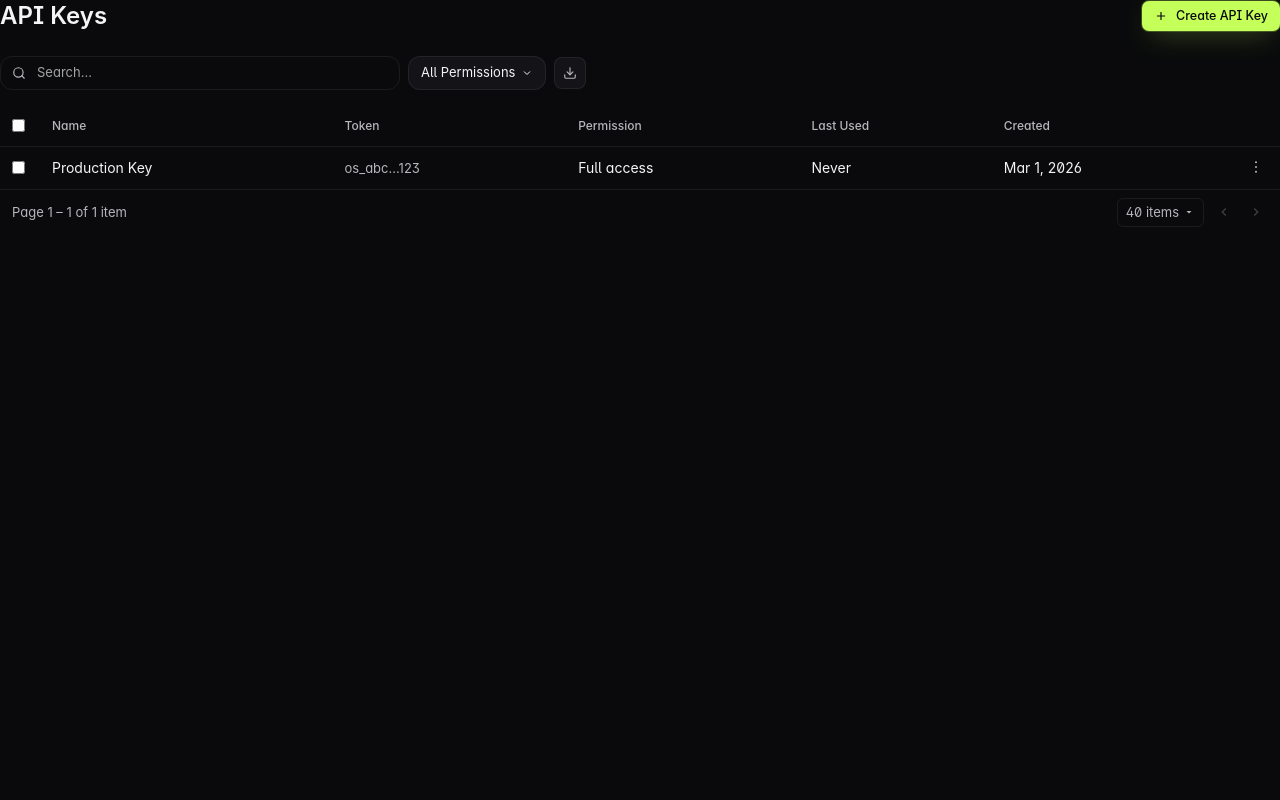
Test: Create API Key Modal — feature-031 › domain field is enabled when Sending access is selected
This screenshot has width=1280, height=800.
Click the button "Create API Key" at (1211, 16), box left=1142, top=1, right=1279, bottom=31
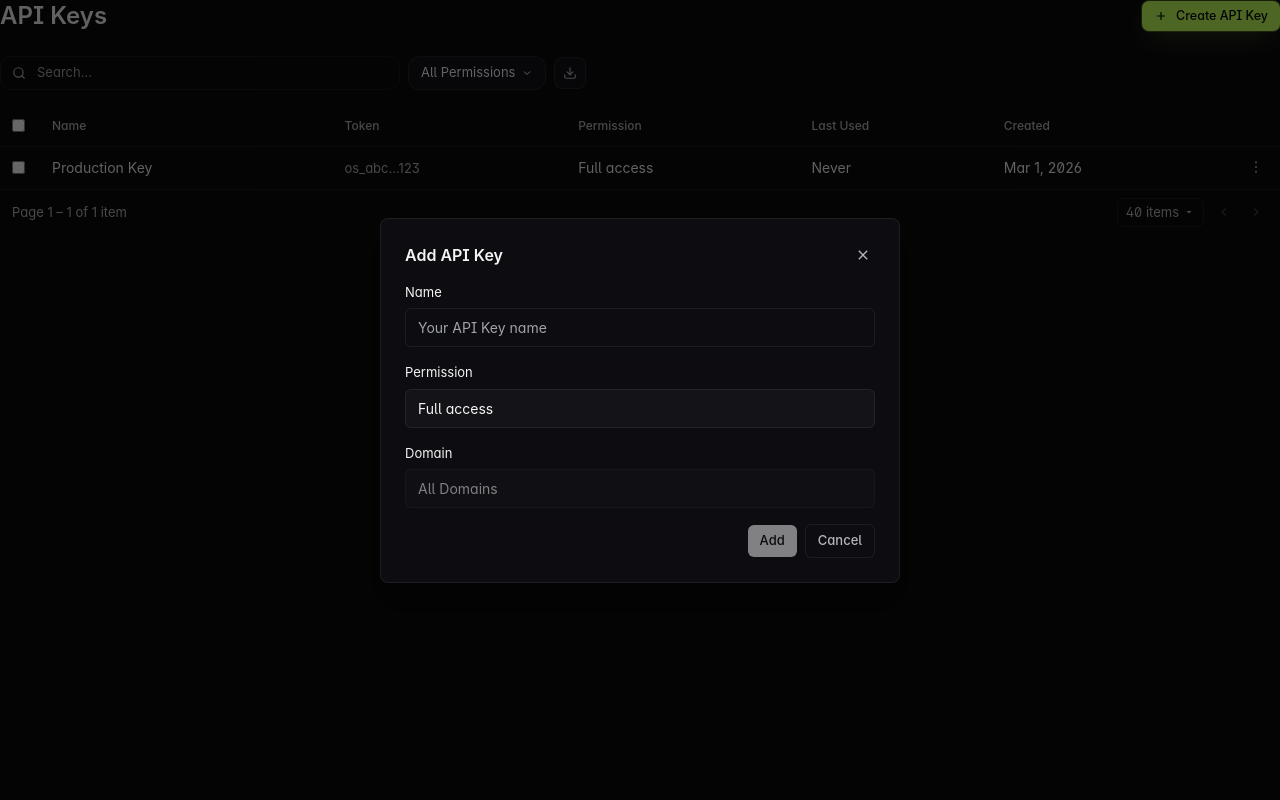
Select "Sending access" in the dropdown labelled "Permission" at (640, 408), box left=405, top=388, right=875, bottom=428
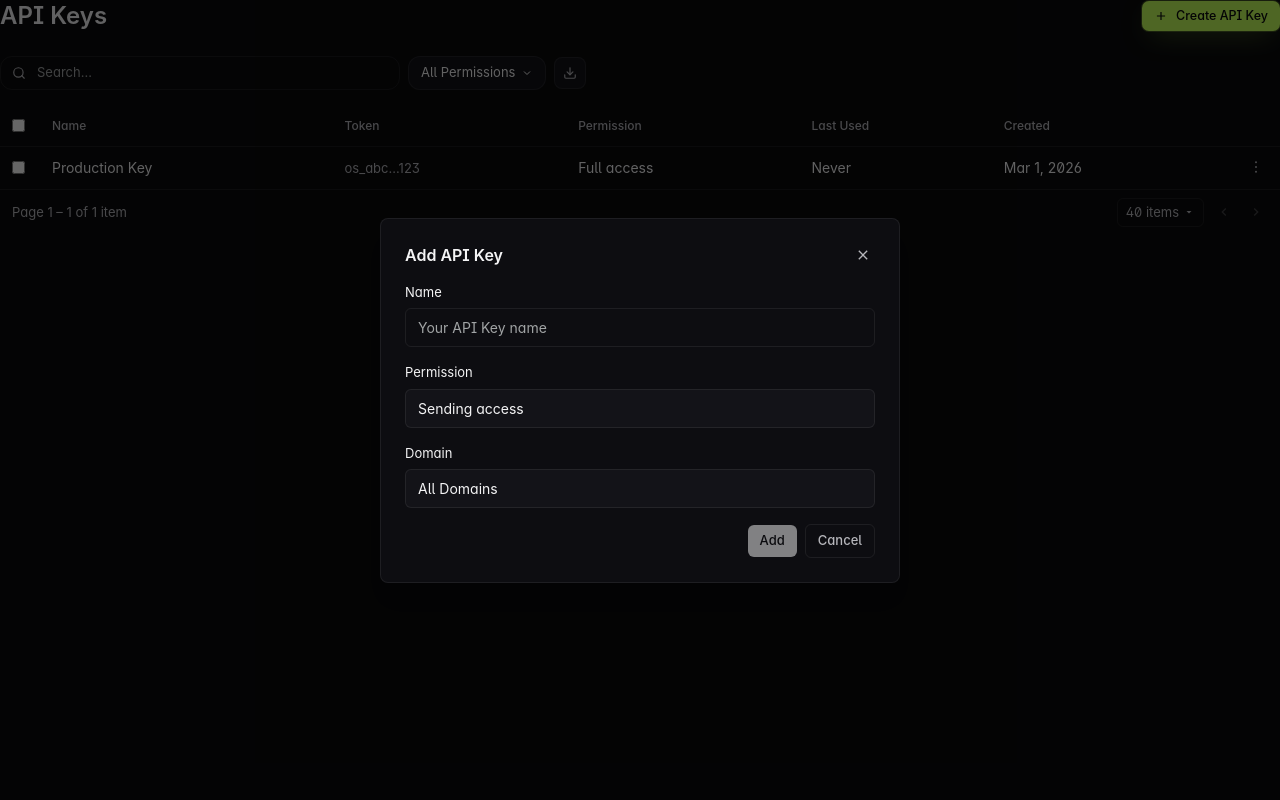
Check: the dropdown labelled "Domain" is enabled, box left=405, top=469, right=875, bottom=508
